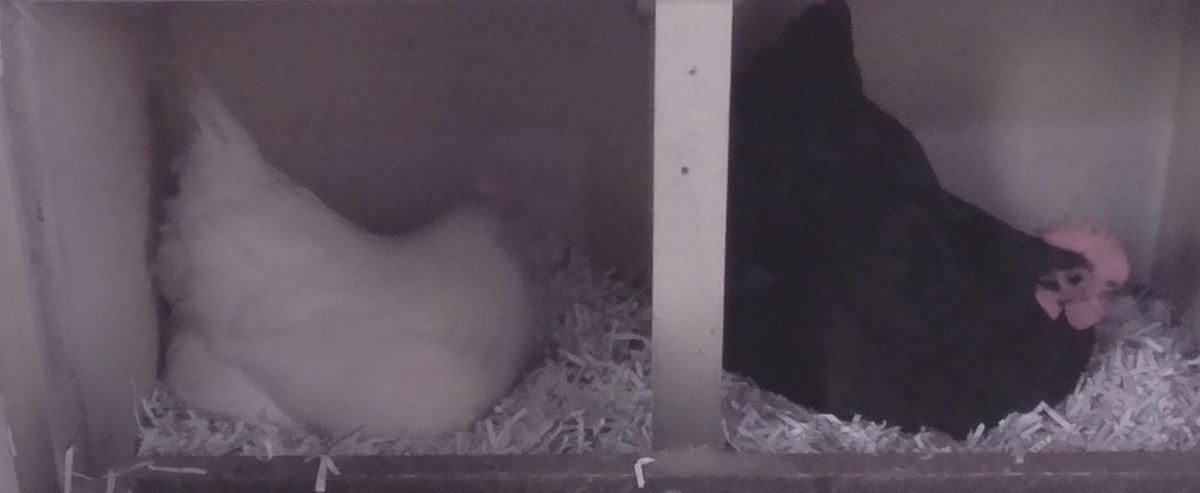hen: (733, 1, 1135, 443), (149, 63, 556, 448)
